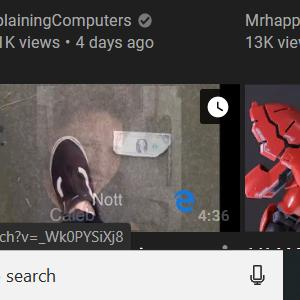edge: (174, 190, 195, 213)
